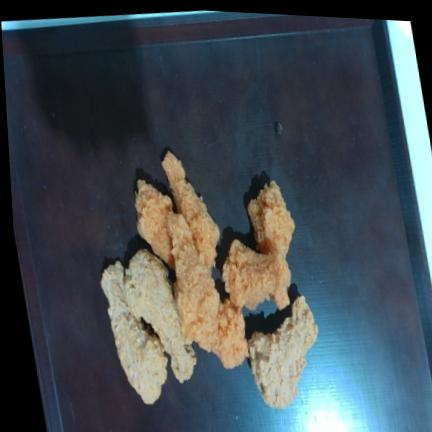chicken: (126, 249, 196, 382), (101, 262, 167, 403), (248, 295, 318, 408), (168, 213, 221, 351), (162, 152, 220, 269), (223, 239, 291, 310), (248, 181, 294, 259), (135, 180, 175, 268)
